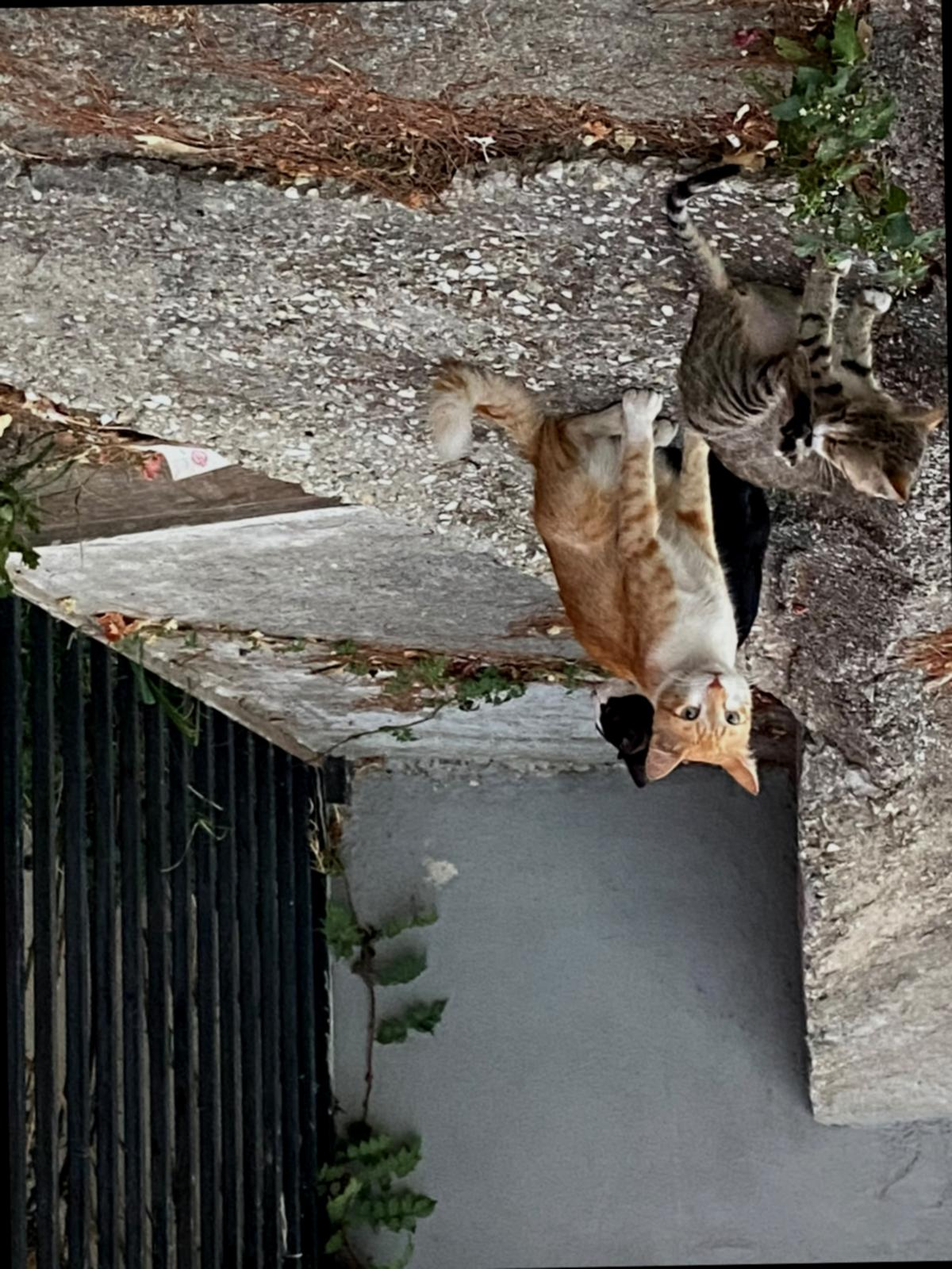macka: (423, 354, 762, 801), (664, 164, 943, 510), (584, 445, 774, 790)
